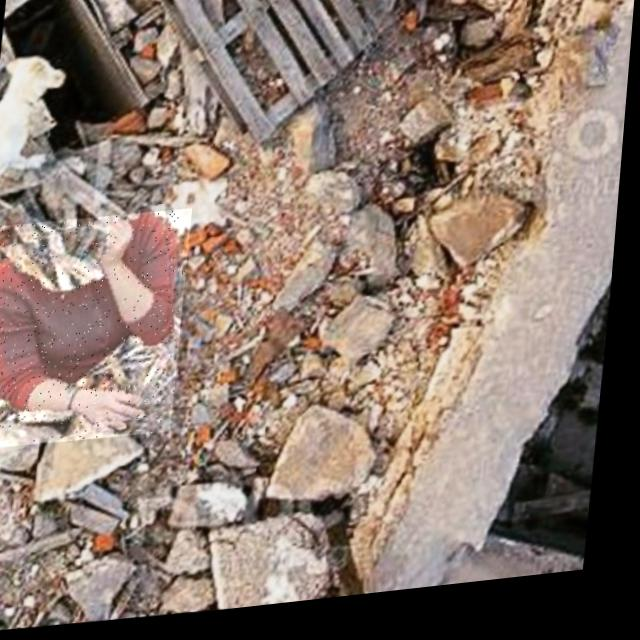Person in Rubble: (0, 209, 196, 454)
